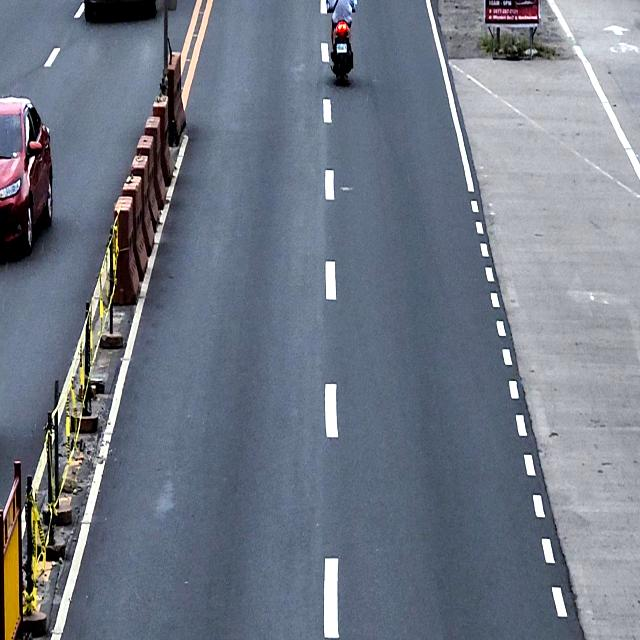Car: (0, 94, 53, 253)
License-Plate: (336, 40, 348, 54)
Motorcycle: (326, 0, 357, 85)
